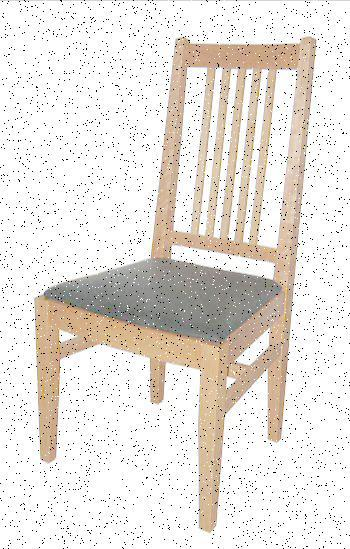Silla: (35, 31, 322, 523)
